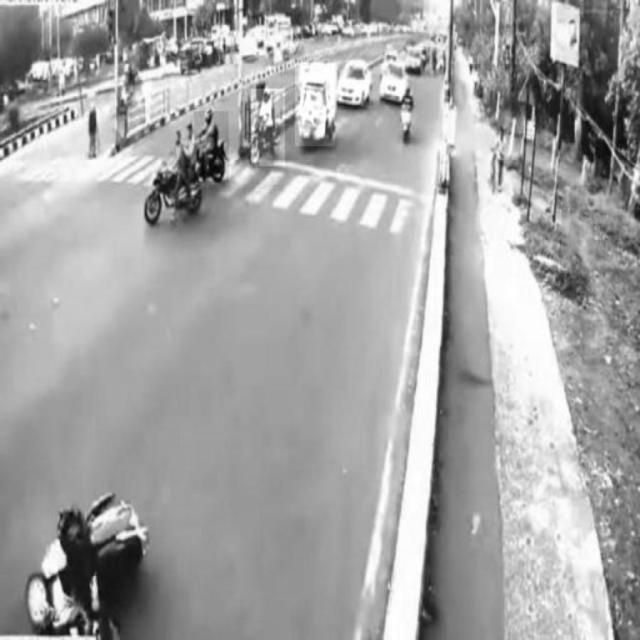vehicle: (145, 134, 202, 216), (295, 63, 335, 146), (251, 89, 285, 166), (195, 112, 230, 183), (339, 60, 371, 108), (381, 64, 408, 102)
